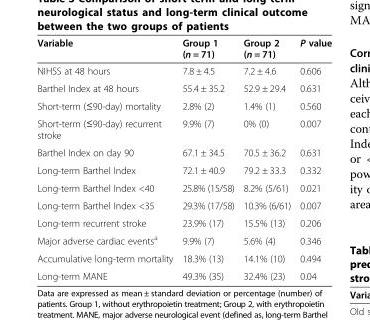table: (36, 36, 331, 281)
table column: (36, 36, 177, 281), (177, 36, 238, 281), (238, 36, 294, 281), (294, 36, 331, 281)
table column header: (36, 36, 331, 62)
table row: (36, 114, 331, 143), (36, 36, 331, 62), (36, 230, 331, 249), (36, 96, 331, 114), (36, 143, 331, 161), (36, 178, 331, 196), (36, 62, 331, 79), (36, 79, 331, 96), (36, 161, 331, 178), (36, 196, 331, 213), (36, 213, 331, 230), (36, 249, 331, 266), (36, 266, 331, 281)
